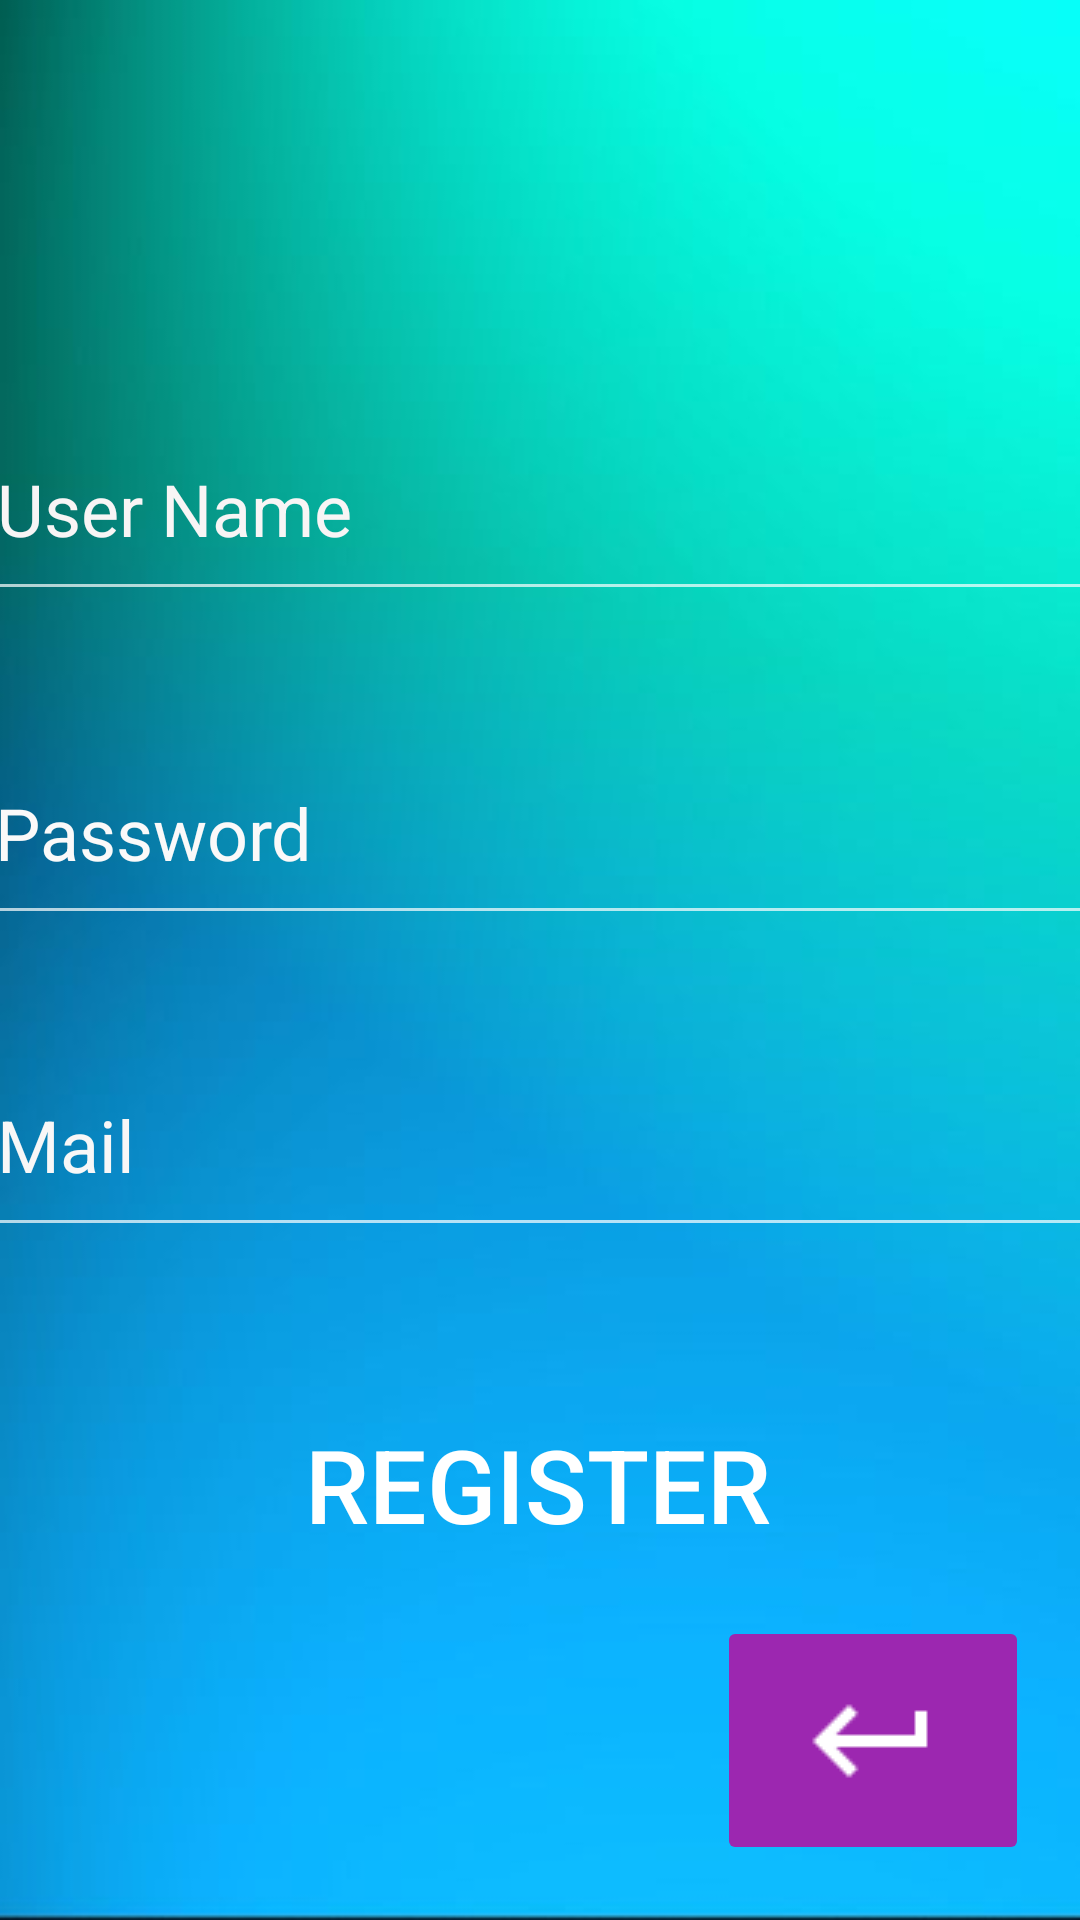

Icons on this 1080 × 1920 Android screen, each with the point to tap as (x,y):
keyboard return: (873,1740)
